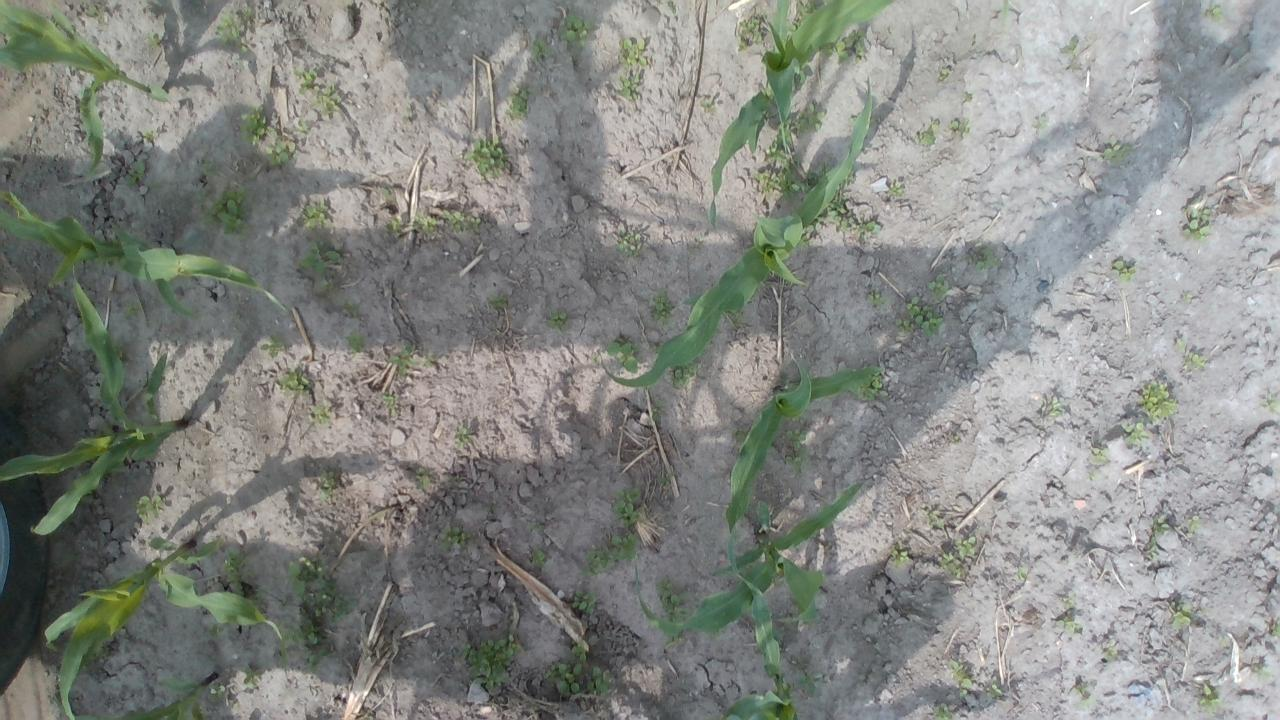Maize: (595, 74, 872, 390), (706, 0, 1010, 228), (0, 255, 192, 542), (42, 533, 294, 720), (628, 476, 864, 642), (718, 350, 883, 575), (0, 189, 294, 315), (0, 0, 168, 177), (712, 563, 795, 720), (68, 668, 218, 720)
Weeds: (286, 556, 359, 622), (826, 171, 882, 246), (195, 182, 255, 241), (462, 634, 522, 690), (754, 155, 817, 200), (281, 618, 332, 673), (583, 533, 638, 577), (463, 133, 506, 179), (214, 6, 251, 54), (1137, 380, 1178, 422), (908, 296, 946, 340), (654, 576, 690, 622), (298, 240, 342, 276), (820, 28, 864, 64), (1179, 198, 1213, 244), (850, 364, 890, 402), (502, 84, 542, 121), (544, 660, 581, 696), (558, 13, 595, 48), (606, 337, 640, 375), (1092, 136, 1134, 166), (614, 488, 646, 527), (239, 103, 268, 146), (786, 0, 816, 38), (795, 214, 826, 250), (223, 548, 246, 596), (132, 494, 166, 526), (794, 101, 826, 135), (764, 122, 788, 164), (442, 209, 484, 233), (585, 665, 616, 696), (280, 366, 312, 396), (648, 288, 674, 324), (300, 200, 332, 229), (615, 228, 644, 260), (438, 524, 471, 552), (391, 344, 418, 378), (314, 84, 342, 116), (736, 18, 762, 52), (571, 587, 602, 615), (618, 36, 646, 67), (264, 140, 296, 167), (570, 635, 600, 663), (670, 361, 700, 387), (1121, 420, 1151, 446), (968, 244, 998, 270), (1198, 684, 1222, 716), (951, 660, 972, 696), (259, 332, 286, 359), (309, 399, 334, 428), (616, 72, 640, 101), (798, 671, 823, 698), (939, 550, 963, 578), (1074, 682, 1098, 709), (293, 68, 317, 94), (412, 211, 438, 235), (318, 470, 338, 501), (1170, 602, 1192, 630), (1110, 260, 1136, 283), (1150, 514, 1174, 538), (125, 160, 146, 187), (928, 272, 948, 300), (1056, 614, 1083, 634), (344, 332, 366, 356), (384, 214, 406, 238), (890, 542, 910, 568), (532, 38, 553, 62), (955, 535, 977, 557), (916, 122, 936, 146), (921, 508, 944, 528), (243, 664, 262, 688), (454, 424, 470, 452), (207, 681, 227, 703), (786, 428, 806, 450), (546, 310, 568, 330), (1184, 352, 1206, 372), (784, 455, 807, 474), (1044, 394, 1062, 418), (868, 288, 888, 308), (87, 644, 111, 660), (1261, 393, 1280, 412), (895, 317, 914, 336), (529, 548, 547, 568), (1104, 639, 1120, 661), (414, 467, 429, 490), (1206, 3, 1224, 22), (932, 703, 952, 720), (1090, 448, 1110, 465), (1255, 666, 1276, 682), (1186, 514, 1204, 532), (488, 294, 508, 310), (651, 400, 666, 420), (252, 586, 266, 607), (1146, 538, 1160, 559), (200, 161, 218, 177), (122, 301, 138, 318), (700, 96, 716, 113), (296, 119, 312, 136), (1032, 115, 1046, 134), (1062, 591, 1076, 610), (948, 120, 970, 132), (343, 300, 359, 316), (146, 32, 162, 48), (382, 391, 398, 406), (988, 682, 1004, 697), (887, 180, 902, 196), (659, 472, 676, 486), (96, 422, 114, 435), (731, 428, 747, 442), (1060, 42, 1078, 54), (401, 105, 411, 126), (423, 352, 436, 368), (729, 308, 742, 324), (208, 624, 222, 638), (84, 7, 100, 19), (1173, 338, 1186, 352), (1272, 618, 1280, 640), (664, 635, 681, 645), (142, 128, 156, 140), (530, 522, 546, 532), (1017, 566, 1029, 579), (1088, 469, 1102, 480), (819, 162, 831, 174), (321, 279, 333, 290), (938, 68, 949, 80), (651, 342, 664, 352), (667, 0, 677, 13), (149, 182, 162, 190), (380, 188, 390, 197), (962, 92, 972, 101), (266, 126, 277, 134), (734, 530, 741, 542), (850, 116, 858, 124)
